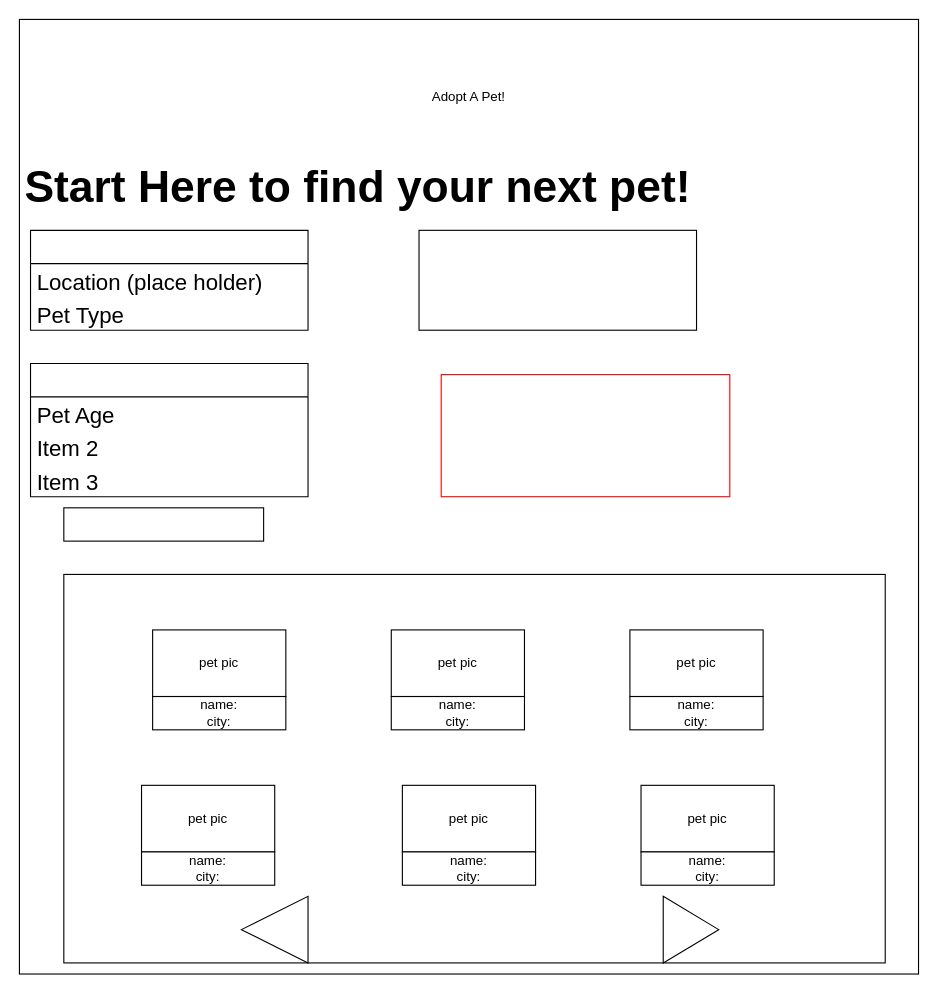
The diagram is 938 pixels wide and 993 high, and some of its shapes have lost their labels. The shapes that lost their labels are listed below. From the top down, each one's box as (x1, y1, x2, y2) in pixels, then its label:
(29, 229, 308, 330): Search *required
(418, 229, 697, 330): 2nd API: Picture of Shiba, Cat, or bird
(29, 362, 308, 497): Preferences (optional)
(440, 374, 730, 497): saved
(63, 507, 264, 541): submit
